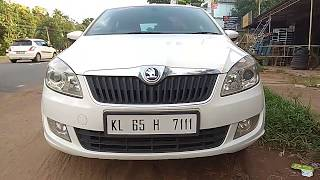number_plate: (102, 110, 202, 138)
